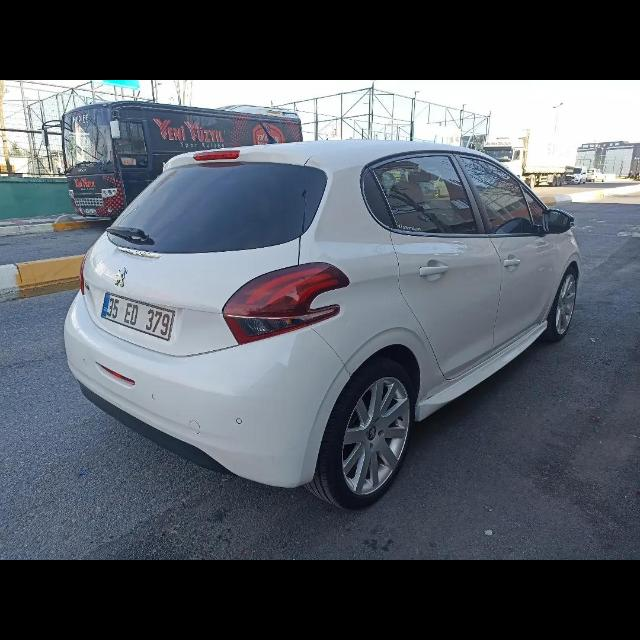Plaka: (100, 290, 176, 342)
